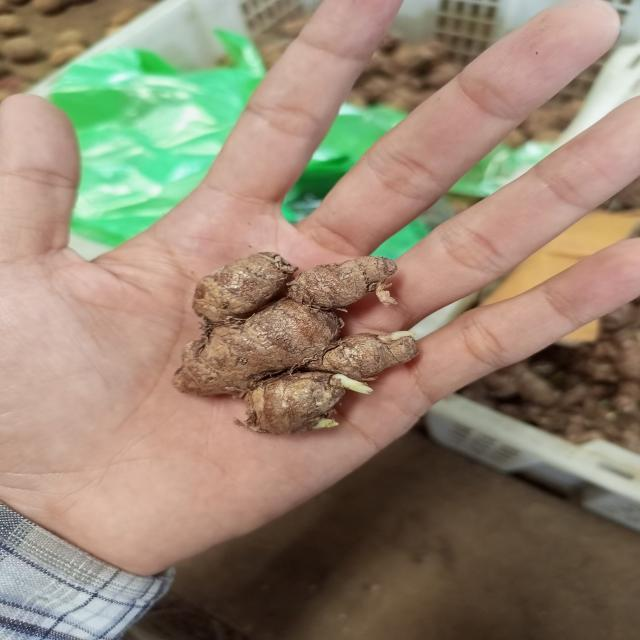ginger: (188, 253, 410, 420)
